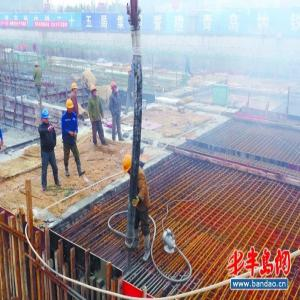blue: (42, 109, 50, 126)
yellow: (124, 155, 135, 176), (66, 100, 75, 115), (72, 82, 78, 95), (91, 85, 97, 98), (112, 82, 118, 94), (128, 66, 132, 76)
